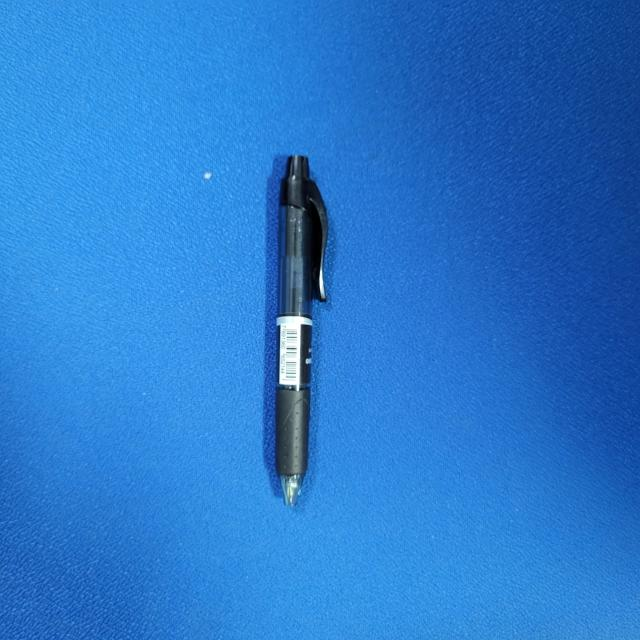caneta: (248, 145, 353, 517)
